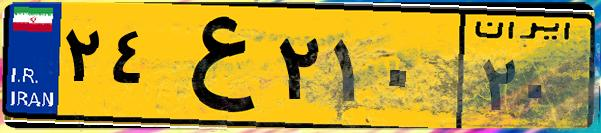0: (385, 28, 445, 110), (525, 38, 570, 115)
1: (330, 28, 385, 110)
2: (270, 28, 330, 110), (57, 26, 110, 100), (475, 38, 525, 113)
4: (110, 28, 158, 98)
ع: (158, 12, 270, 120)
